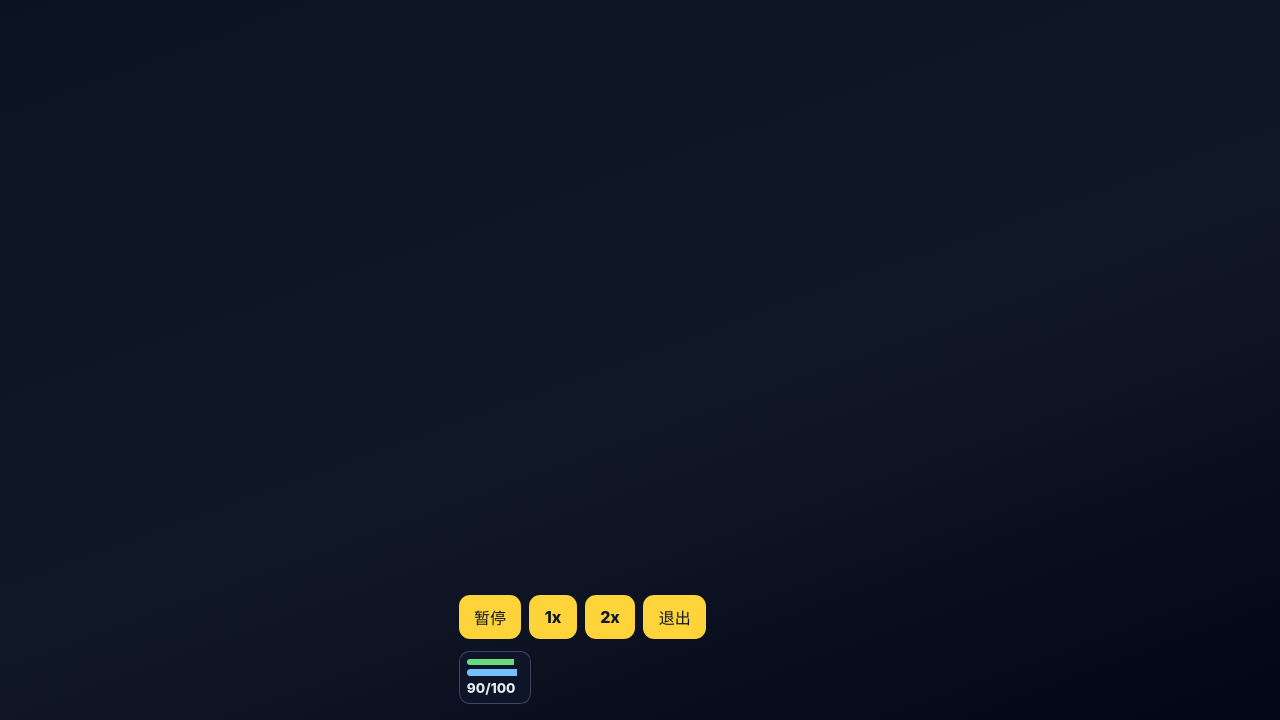
BattleScreen › canceling exit confirmation preserves a manual pause
Click the button "暂停": [490, 617] box [459,595,521,639]
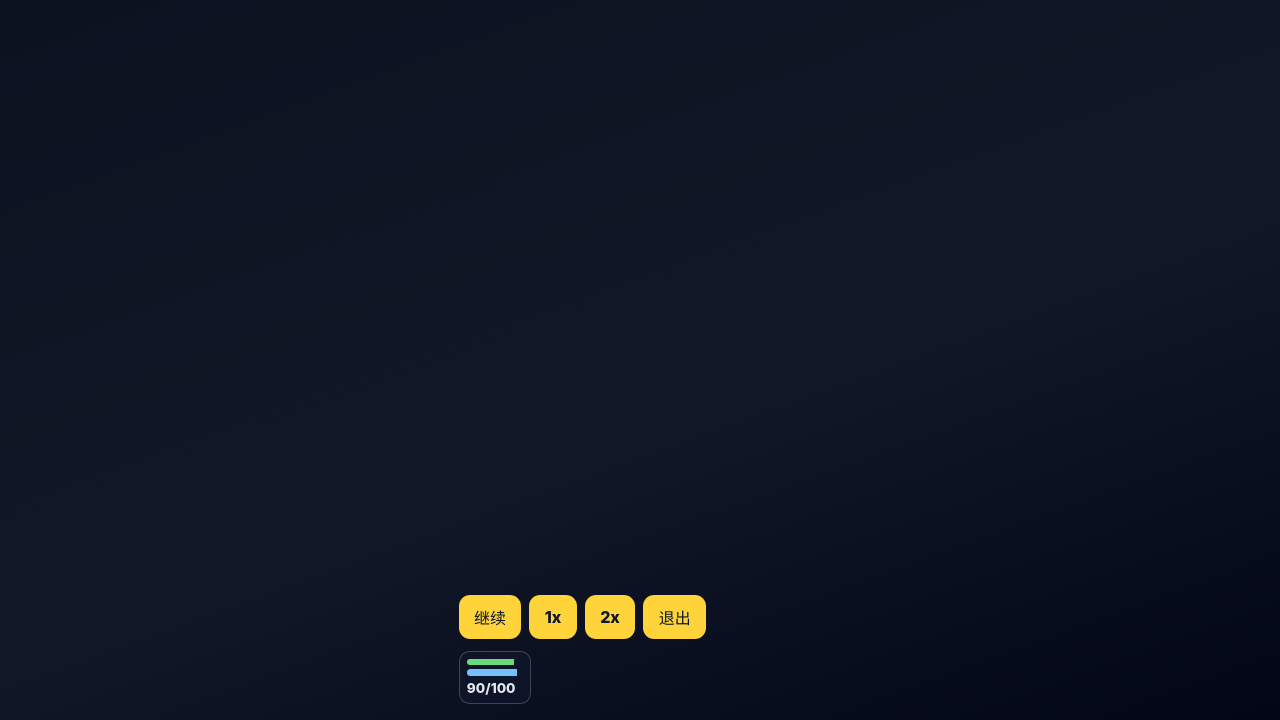
Click the button "退出": [675, 617] box [643,595,706,639]
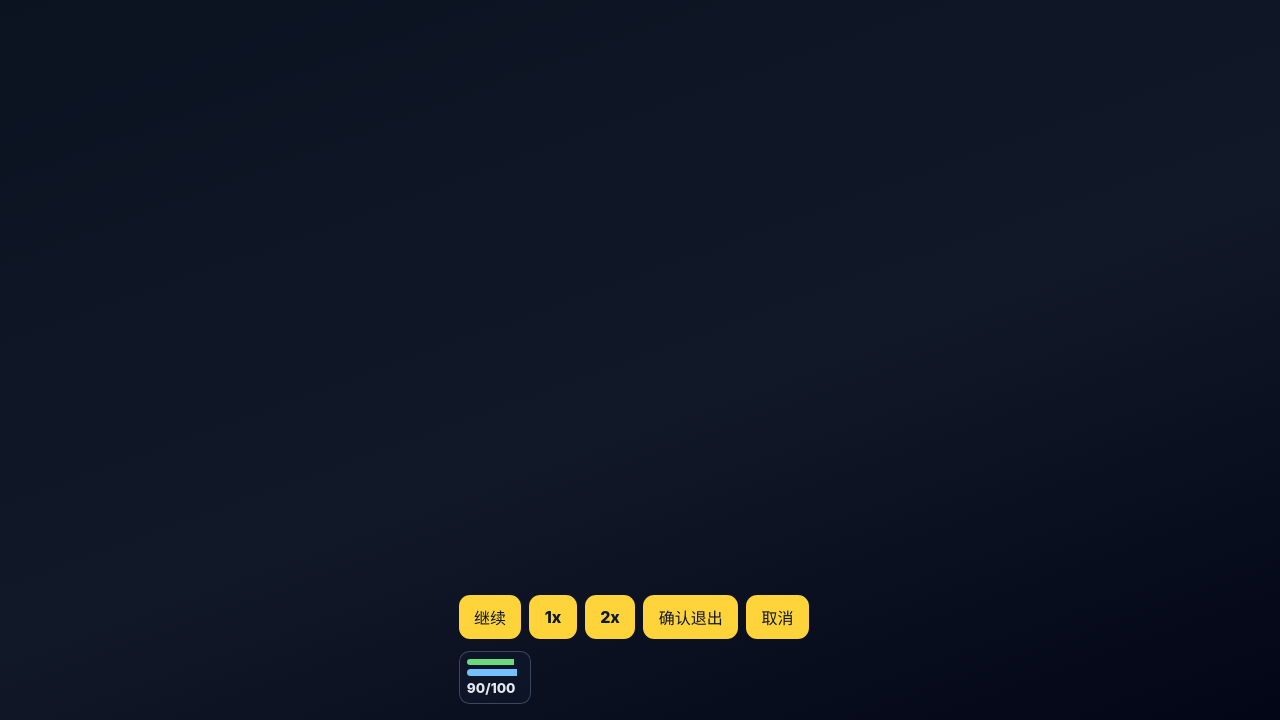
Click the button "取消": [777, 617] box [746,595,809,639]
Wait 1000 ms
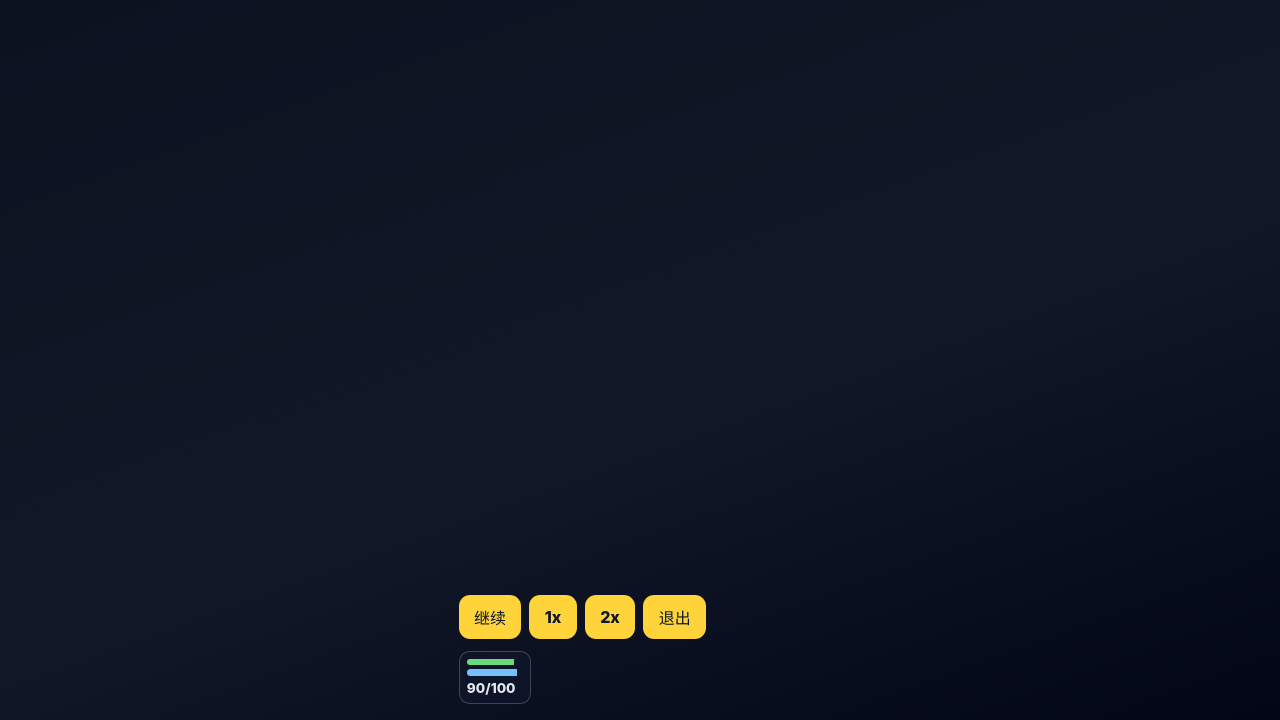
Click the button "继续": [490, 617] box [459,595,521,639]
Wait 100 ms
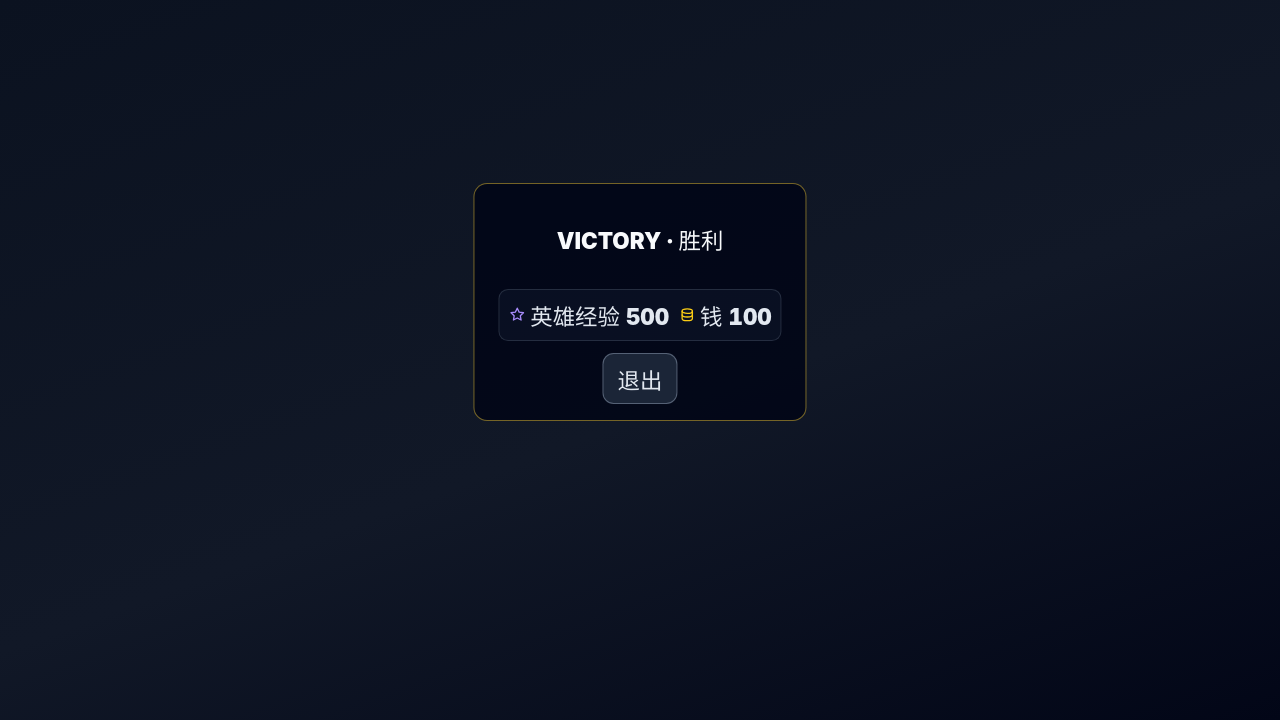
Expected: the text "VICTORY · 胜利" is shown, [557,227,723,254]
